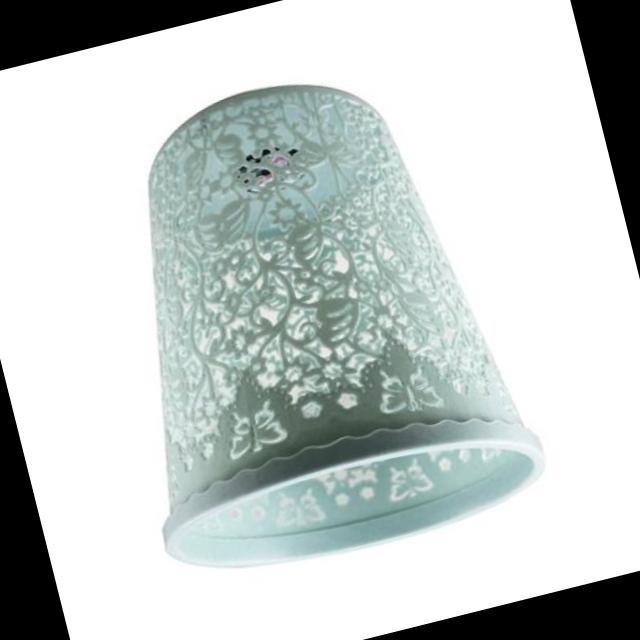dustbin: (53, 35, 563, 607)
